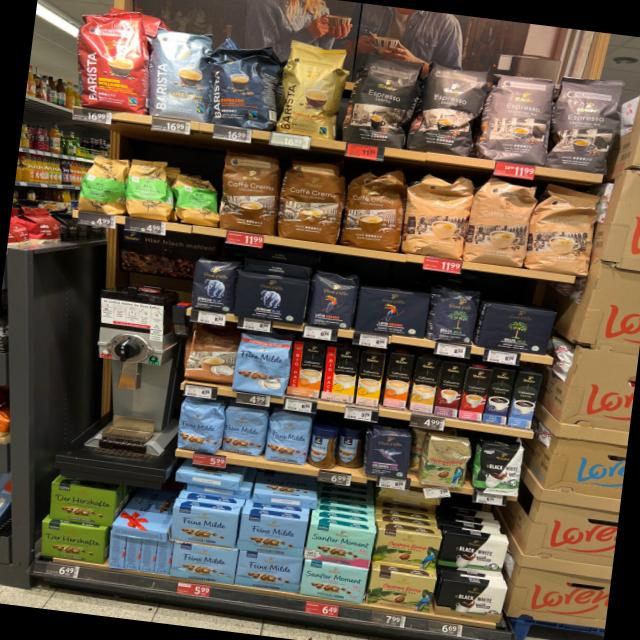AB Bohne: (188, 256, 238, 314)
AB Gemahlen: (230, 270, 310, 324)
Athiopien Bohne: (76, 150, 129, 217), (124, 156, 176, 221), (166, 170, 224, 227)
BM Bohne: (426, 283, 482, 346)
BM Gemahlen: (477, 301, 558, 356)
BW Bohne: (472, 442, 525, 498)
BW Gemahlen: (438, 530, 510, 573)
Barista CB: (274, 36, 349, 142)
Barista CC: (143, 24, 216, 123)
Barista Espresso: (201, 32, 284, 133)
Barista Kolumbien: (62, 3, 158, 114)
C Fino Bohne: (366, 428, 412, 481)
CC Mild: (398, 168, 476, 260), (530, 181, 602, 278), (466, 174, 538, 268)
CC Vollmundig: (182, 324, 240, 384)
Colombia BB Bohne: (421, 433, 472, 490)
Colombia BB Gemahlen: (364, 567, 436, 614), (372, 526, 443, 572)
Espresso M Art: (546, 70, 627, 176), (480, 68, 556, 164)
FM 36 Pads: (232, 330, 292, 397)
FM Bohne: (218, 403, 269, 458), (174, 399, 224, 454), (264, 412, 312, 466)
FM Gemahlen: (236, 511, 308, 558), (167, 502, 240, 548), (168, 540, 238, 584), (235, 550, 302, 592)
FM Instant: (306, 422, 341, 470), (334, 422, 367, 470)
Herzhatfe Mundig: (46, 479, 116, 526), (36, 520, 106, 564)
LG Bohne: (307, 267, 358, 330)
LG Gemahlen: (352, 284, 432, 340)
SM Gemahlen: (300, 556, 369, 604), (306, 522, 378, 568)
Simo CCMild: (321, 346, 358, 402)
Simo CCMild bigpack: (355, 351, 384, 406)
Simo CCVollmundig: (287, 340, 325, 397)
Simo CCVollmundig bigpack: (274, 156, 348, 246), (338, 162, 408, 252), (214, 147, 283, 235), (383, 350, 414, 410)
Simo Decaff: (410, 356, 440, 414)
Simo Es Brazil: (457, 366, 492, 421)
Simo Es Caramel: (433, 361, 467, 417)
Simo Es Kraft: (481, 367, 517, 425)
Simo Es Vanilla: (506, 371, 543, 429)
